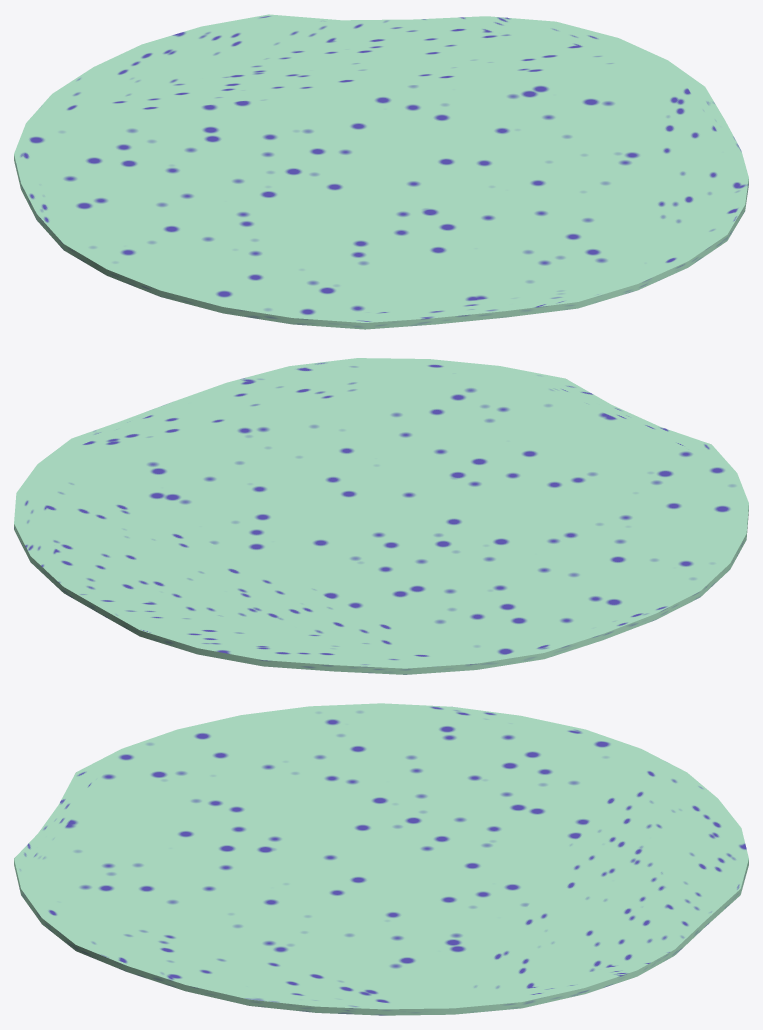
The model's file is Citoplasma.glb.
3 views of the same model, one above another, from view 1: azimuth 30°, elevation 25°; view 2: azimuth 150°, elevation 25°; view 3: azimuth 270°, elevation 25° (orthographic). The views are drawn at different scales.
Visible parts, largest first — view 1: citoplasma; view 2: citoplasma; view 3: citoplasma.
Boxes of the visible parts, x1,y1,x2,y2 form: citoplasma: (14, 14, 748, 329); citoplasma: (14, 358, 748, 674); citoplasma: (14, 703, 748, 1015).
Size of the model in its own units: 2.6 by 0.0601 by 2.64.
Materials: 1 (1 with a texture image).
